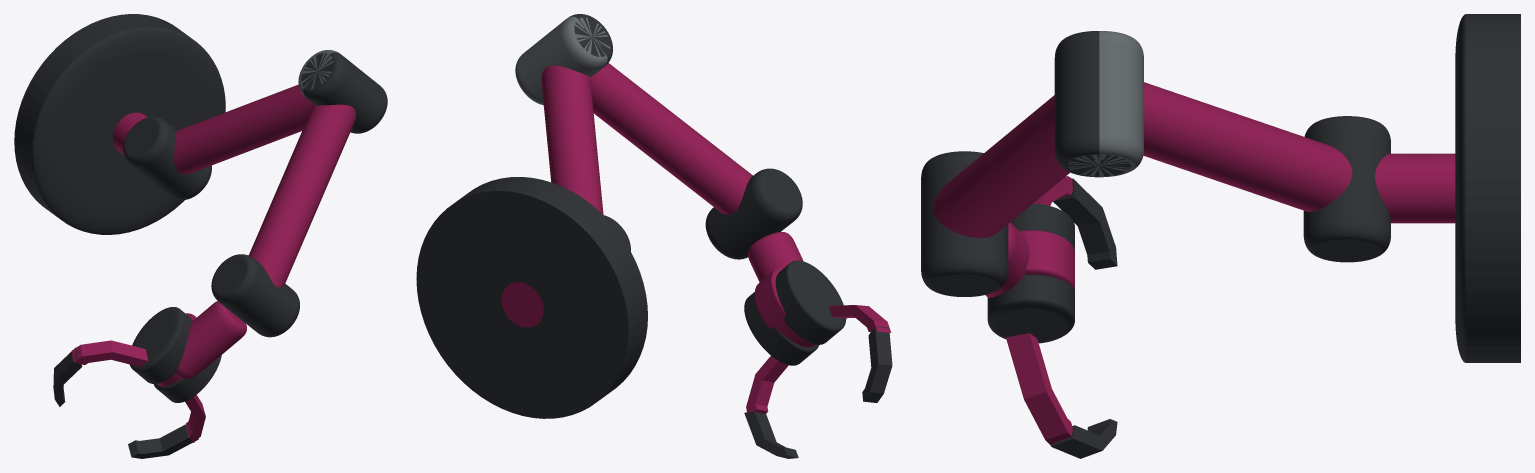
File: tinker.obj
The picture shows the model from 3 angles, left to right: view 1: azimuth 30°, elevation 25°; view 2: azimuth 150°, elevation 25°; view 3: azimuth 270°, elevation 25°; orthographic projection. The views are drawn at different scales.
Visible parts, largest first — view 1: group_0_2829873, group_0_9444435, group_0_6383466; view 2: group_0_2829873, group_0_9444435, group_0_6383466; view 3: group_0_2829873, group_0_9444435, group_0_6383466.
Part boxes in pixels (box(x1,y1,x2,y2)): group_0_2829873: box(14, 14, 387, 458); group_0_9444435: box(71, 84, 355, 442); group_0_6383466: box(298, 50, 338, 96); group_0_2829873: box(416, 14, 892, 458); group_0_9444435: box(501, 63, 891, 414); group_0_6383466: box(515, 16, 609, 104); group_0_2829873: box(921, 14, 1520, 458); group_0_9444435: box(933, 82, 1455, 448); group_0_6383466: box(1068, 31, 1143, 177).
Bounding box in the file's own units: 70.21 × 72 × 70.
